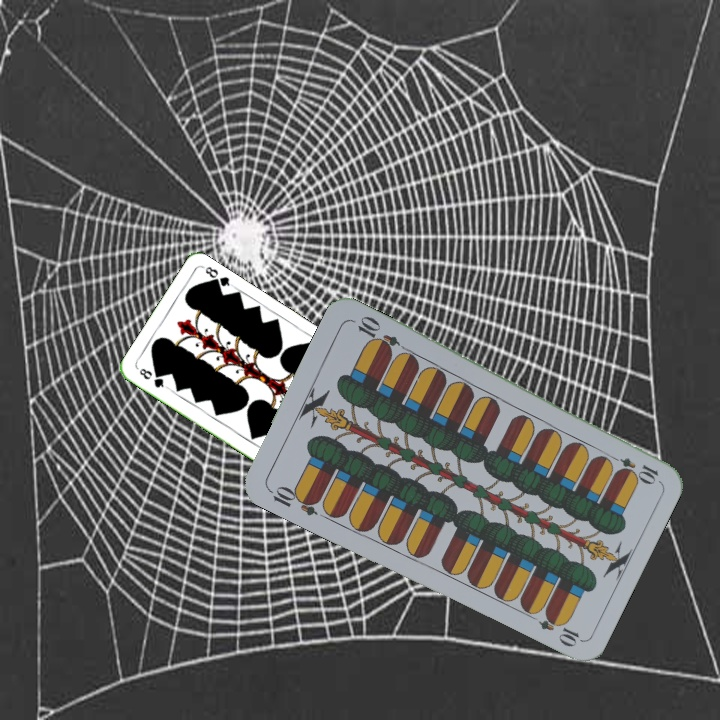E10: (264, 481, 322, 519), (604, 450, 661, 485)
G8: (135, 364, 170, 391)
